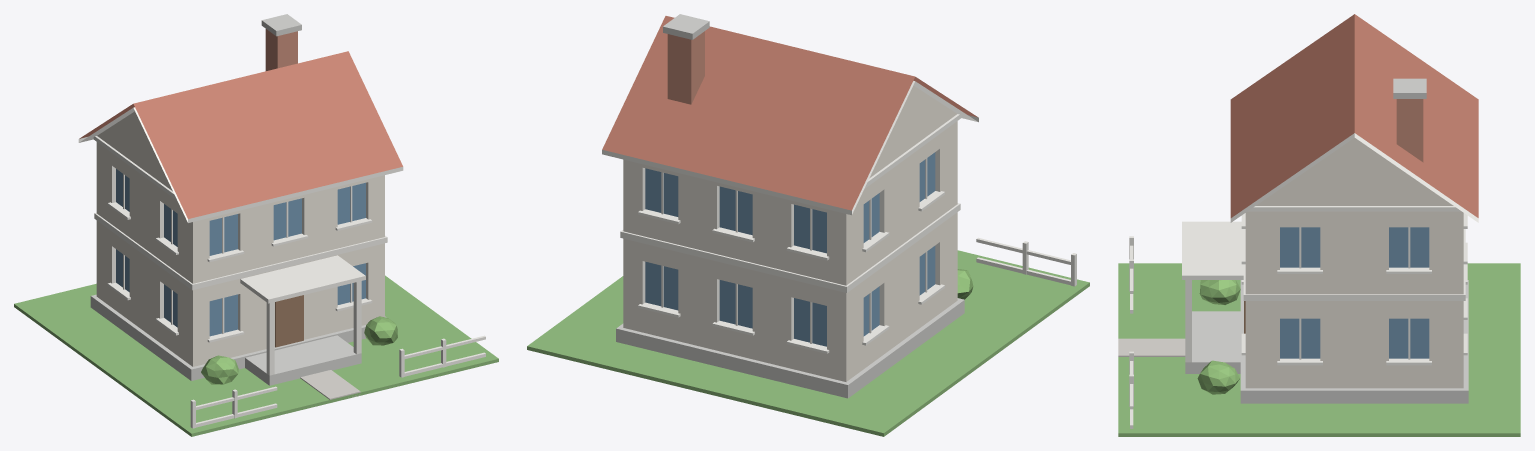
The picture shows the model from 3 angles, left to right: view 1: azimuth 30°, elevation 25°; view 2: azimuth 150°, elevation 25°; view 3: azimuth 270°, elevation 25°; orthographic projection. The views are drawn at different scales.
Parts seen in each view (by area): view 1: r_1_1_b; view 2: r_1_1_b; view 3: r_1_1_b.
Boxes of the visible parts, x1,y1,x2,y2 form: r_1_1_b: (14,14,498,436); r_1_1_b: (527,14,1089,436); r_1_1_b: (1118,14,1520,436).
Size of the model in its own units: 12 by 9.95 by 12.
